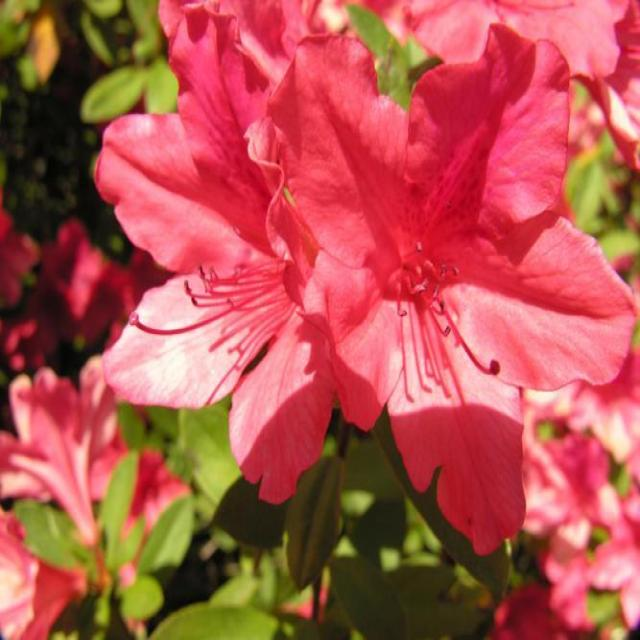azalea: (286, 48, 640, 570), (75, 56, 370, 528)
